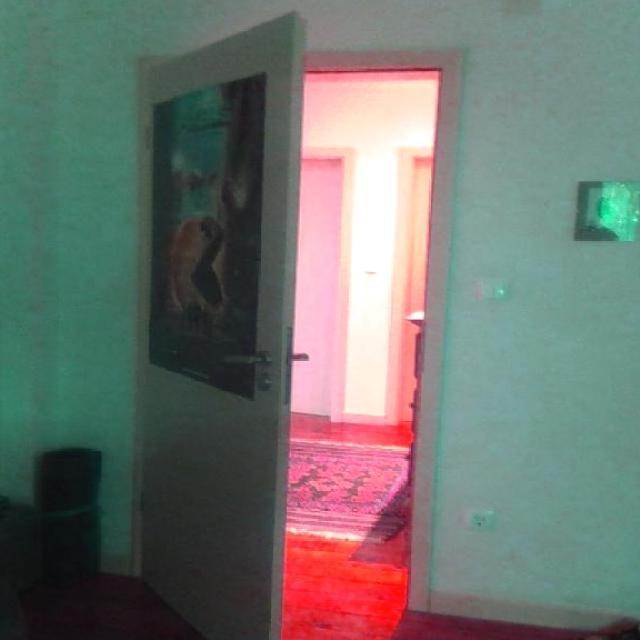Door: (111, 9, 312, 640)
